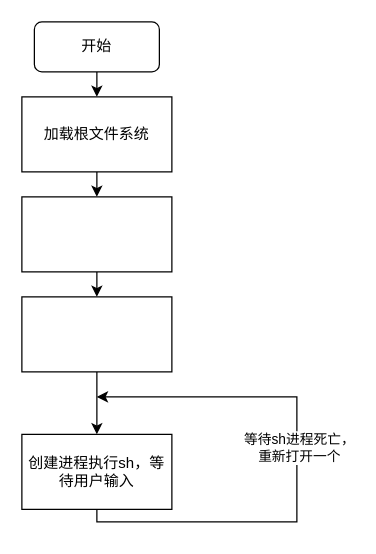
Some shapes in this 376 by 554 pixel diagram are drawn without their labels. The shapes that lost their labels are listed below. From the top down, each one's box as (x1, y1, x2, y2) in pixels, then its label:
(21, 196, 172, 272): 将tty设备绑定为fd 0，fd1，fd2
(21, 296, 172, 372): 创建进程执行/etc/rc文件
